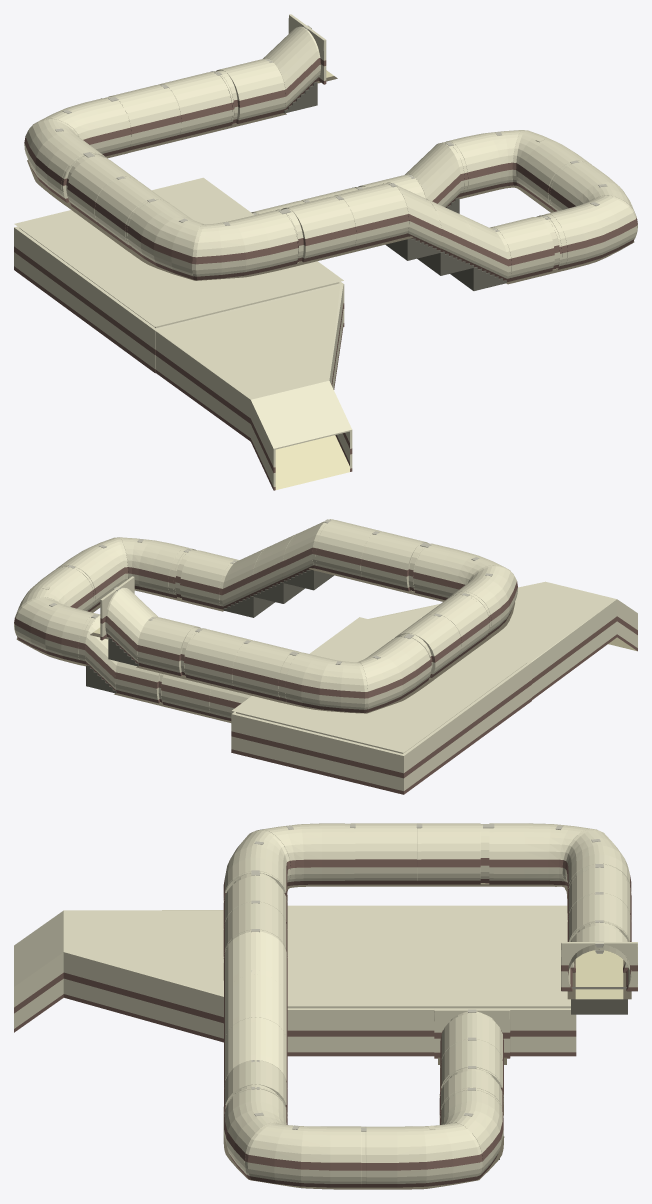
The model's file is ChannelA3.fbx.
3 views of the same model, one above another, from view 1: azimuth 30°, elevation 25°; view 2: azimuth 150°, elevation 25°; view 3: azimuth 270°, elevation 25° (orthographic). The views are drawn at different scales.
Visible parts, largest first — view 1: polySurface70; view 2: polySurface70; view 3: polySurface70.
Boxes of the visible parts, left/top/right/bottom form: polySurface70: left=14, top=14, right=637, bottom=490; polySurface70: left=14, top=519, right=637, bottom=794; polySurface70: left=14, top=823, right=637, bottom=1189.
Size of the model in its own units: 4786 by 1803 by 4869.
